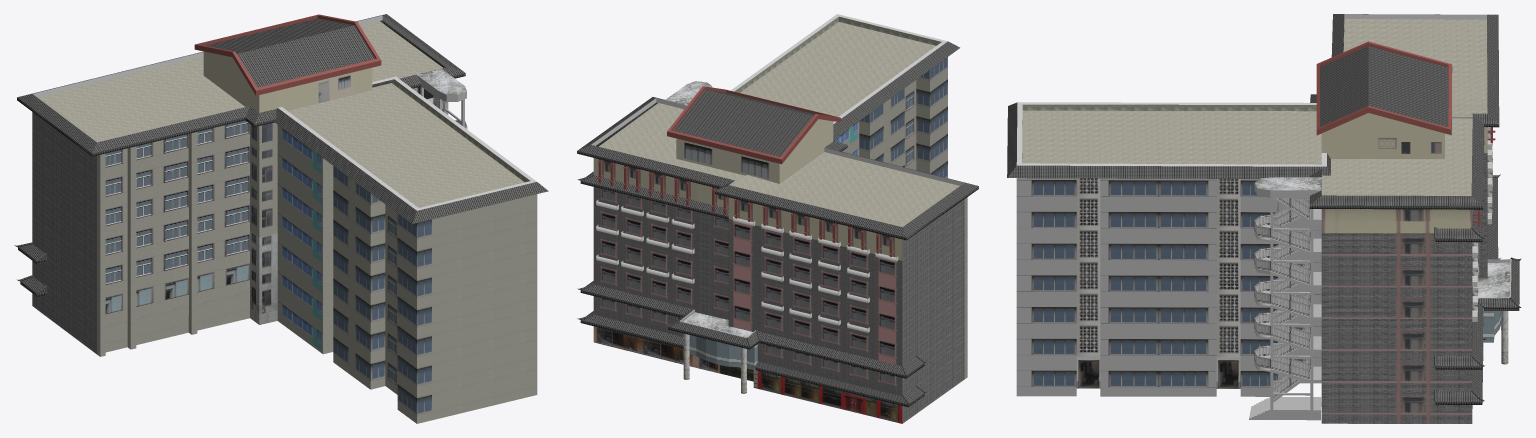
The picture shows the model from 3 angles, left to right: view 1: azimuth 30°, elevation 25°; view 2: azimuth 150°, elevation 25°; view 3: azimuth 270°, elevation 25°; orthographic projection. The views are drawn at different scales.
Parts seen in each view (by area): view 1: jz13; view 2: jz13; view 3: jz13.
Part boxes in pixels (bbox=[...]): jz13: bbox=[14, 14, 548, 423]; jz13: bbox=[577, 14, 978, 423]; jz13: bbox=[1007, 14, 1521, 423].
Bounding box in the file's own units: 3912 × 2645 × 4411.
Materials: 44 (44 with a texture image).
